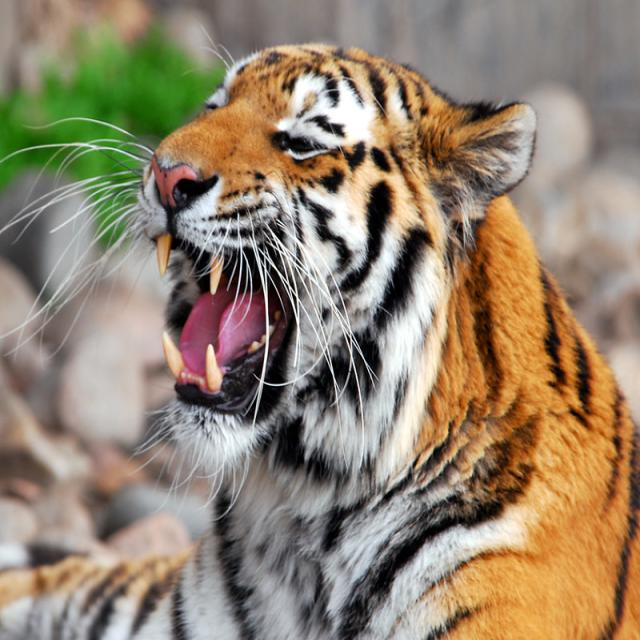Tiger: (64, 16, 616, 635)
